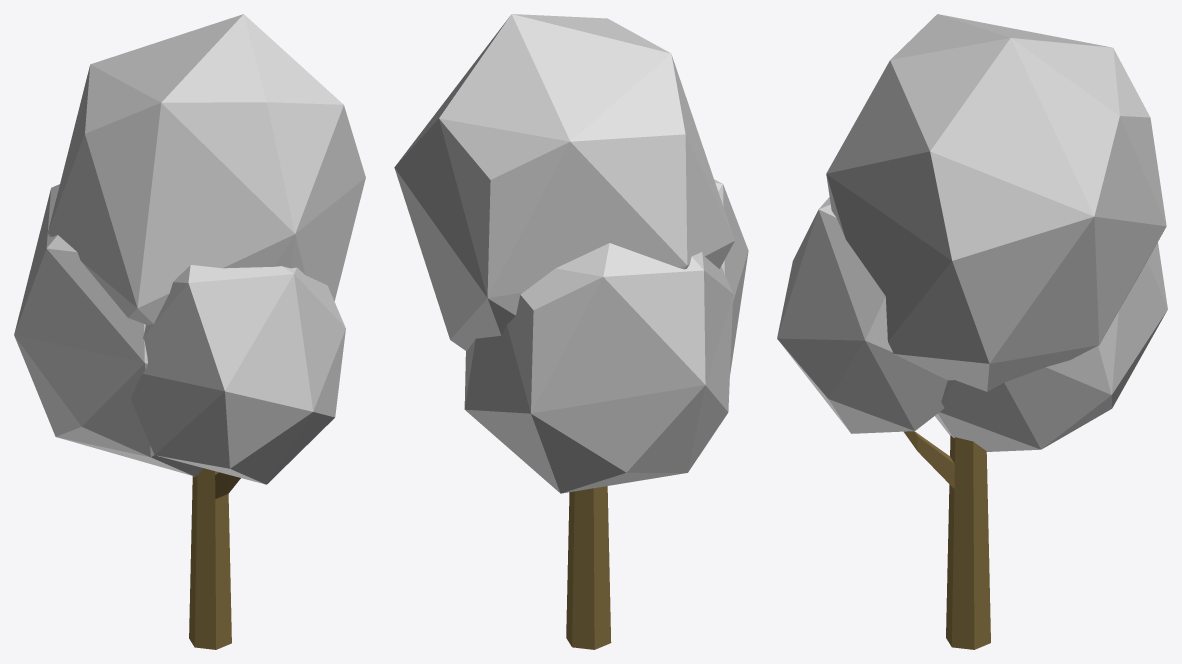
Rendered from WinterTree2.gltf.
The picture shows the model from 3 angles, left to right: view 1: azimuth 30°, elevation 25°; view 2: azimuth 150°, elevation 25°; view 3: azimuth 270°, elevation 25°; orthographic projection. The views are drawn at different scales.
Visible parts, largest first — view 1: Icosphere.003, Cylinder.004; view 2: Icosphere.003, Cylinder.004; view 3: Icosphere.003, Cylinder.004.
Part boxes in pixels (<box>): Icosphere.003: <box>14,14,365,484</box>; Cylinder.004: <box>189,468,240,649</box>; Icosphere.003: <box>394,14,748,493</box>; Cylinder.004: <box>566,486,611,649</box>; Icosphere.003: <box>777,14,1167,451</box>; Cylinder.004: <box>904,431,990,649</box>.
Size of the model in its own units: 7.69 by 14.6 by 8.21.
